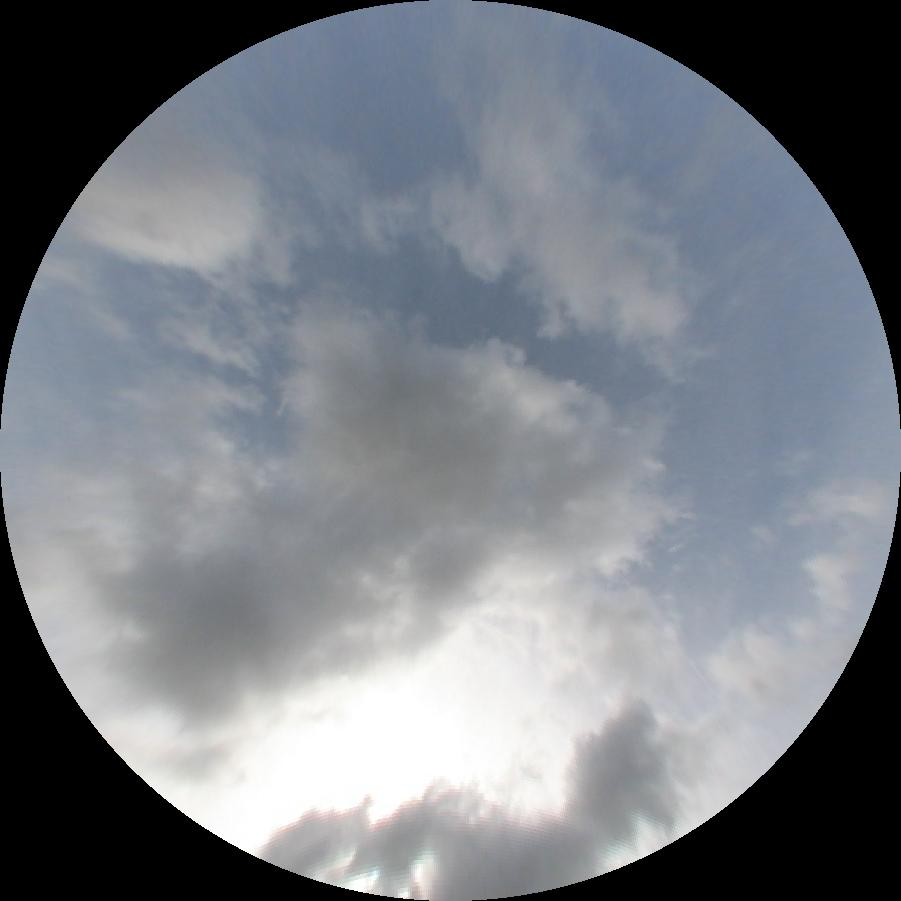sun: (301, 684, 463, 822)
